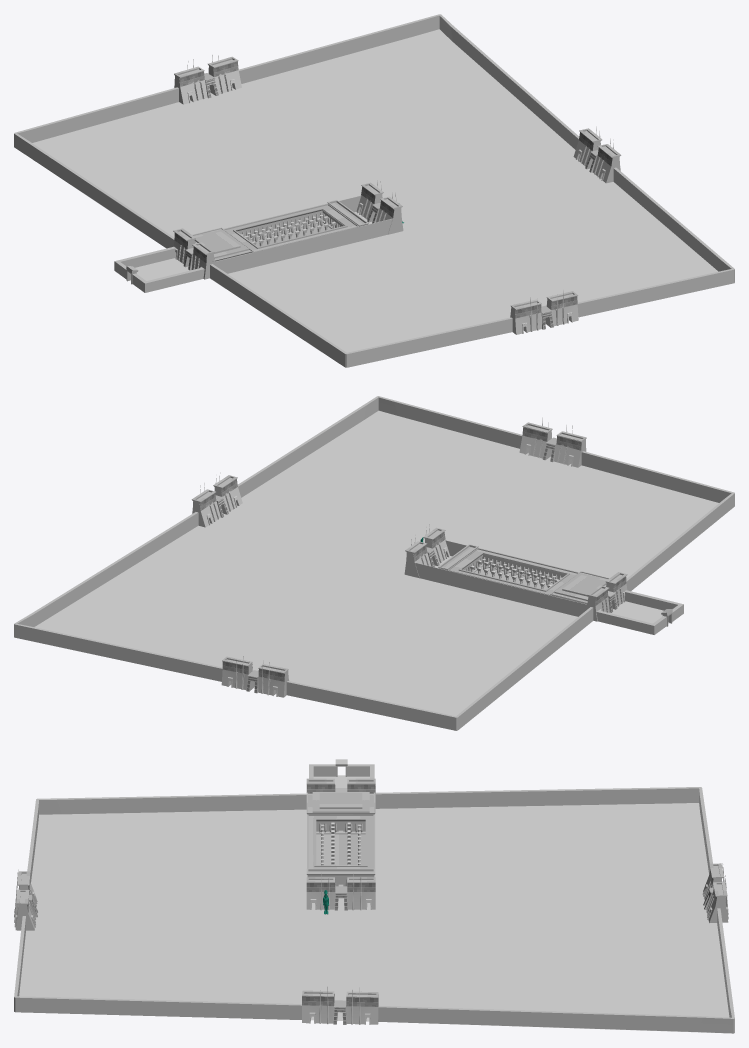
The model's file is 20250815_Ptah_Temple_BIG.glb.
3 views of the same model, one above another, from view 1: azimuth 30°, elevation 25°; view 2: azimuth 150°, elevation 25°; view 3: azimuth 270°, elevation 25° (orthographic). The views are drawn at different scales.
Visible parts, largest first — view 1: Plane.013, Plane, Plane.011, Plane.004, Plane.001, Plane.012, Plane.010; view 2: Plane.013, Plane, Plane.011, Plane.001, Plane.004, Plane.010, Plane.012; view 3: Plane.013, Plane, Plane.011, Plane.010, Plane.004, Plane.001, Plane.012.
Part boxes in pixels (<box>): Plane.013: <box>32,29,717,352</box>; Plane: <box>14,14,734,367</box>; Plane.011: <box>173,180,403,279</box>; Plane.004: <box>174,55,241,104</box>; Plane.001: <box>510,290,578,334</box>; Plane.012: <box>114,246,204,292</box>; Plane.010: <box>573,126,621,183</box>; Plane.013: <box>34,410,718,716</box>; Plane: <box>14,396,734,730</box>; Plane.011: <box>404,524,627,621</box>; Plane.001: <box>519,417,586,467</box>; Plane.004: <box>221,656,289,697</box>; Plane.010: <box>191,472,242,527</box>; Plane.012: <box>596,590,683,634</box>; Plane.013: <box>19,775,731,1033</box>; Plane: <box>14,787,734,1033</box>; Plane.011: <box>306,778,375,910</box>; Plane.010: <box>302,986,378,1024</box>; Plane.004: <box>702,863,728,923</box>; Plane.001: <box>14,869,38,930</box>; Plane.012: <box>309,764,374,778</box>.
Size of the model in its own units: 534 by 35.69 by 628.
Materials: 8 (5 with a texture image).
